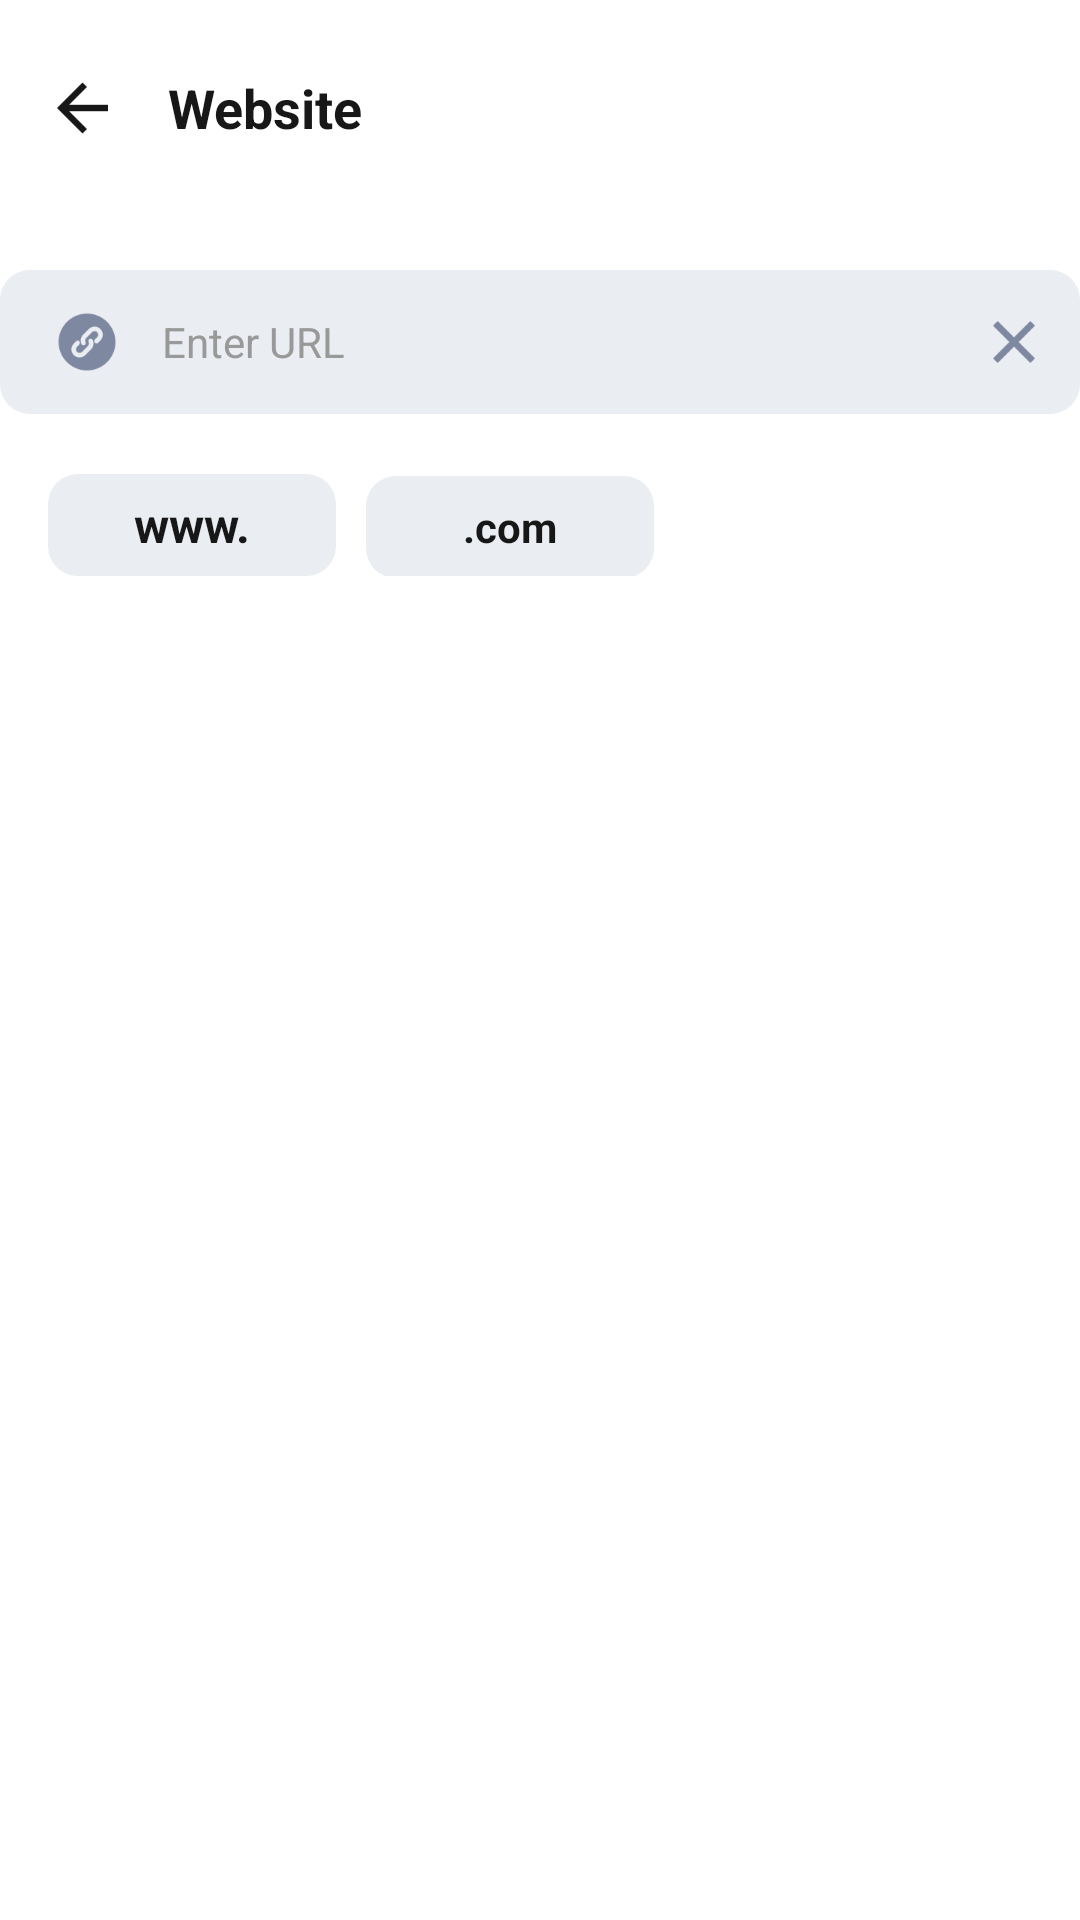

Point at icon controls on the screen. Image size 1080 x 1920, points as point (x, y).
delete: point (1014, 342)
results page return: point (82, 108)
